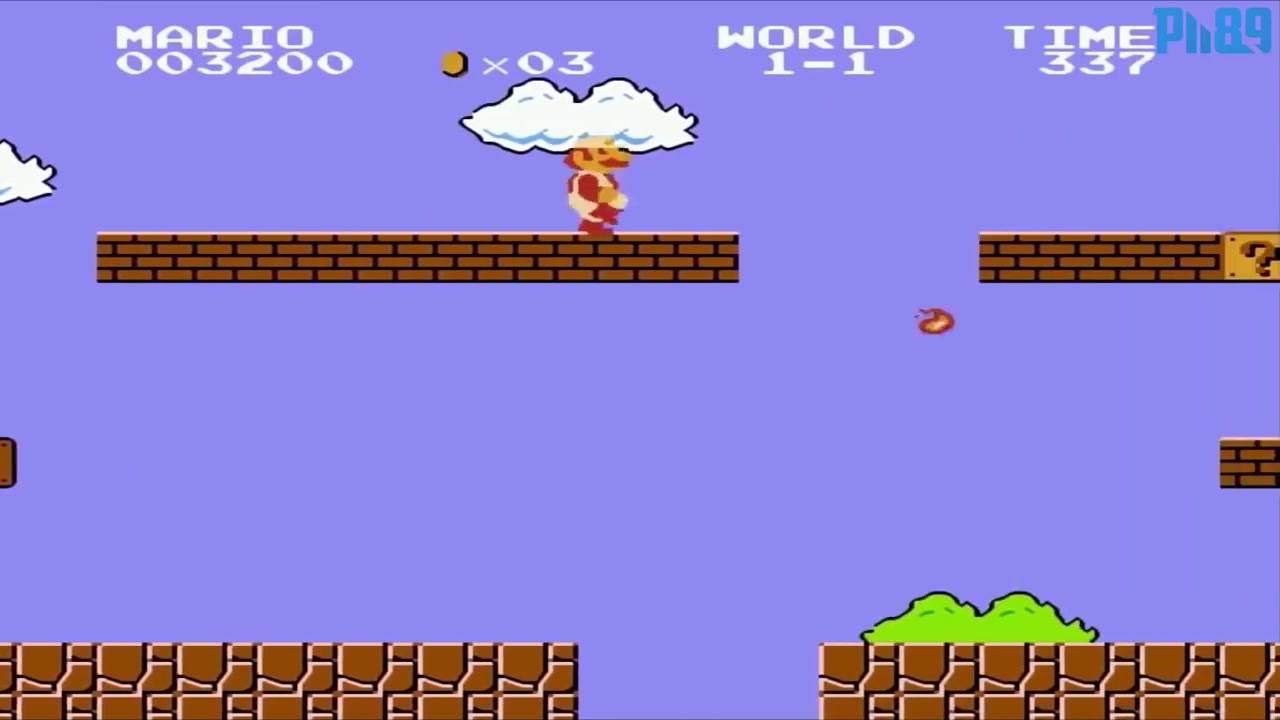mario: (548, 130, 636, 243)
